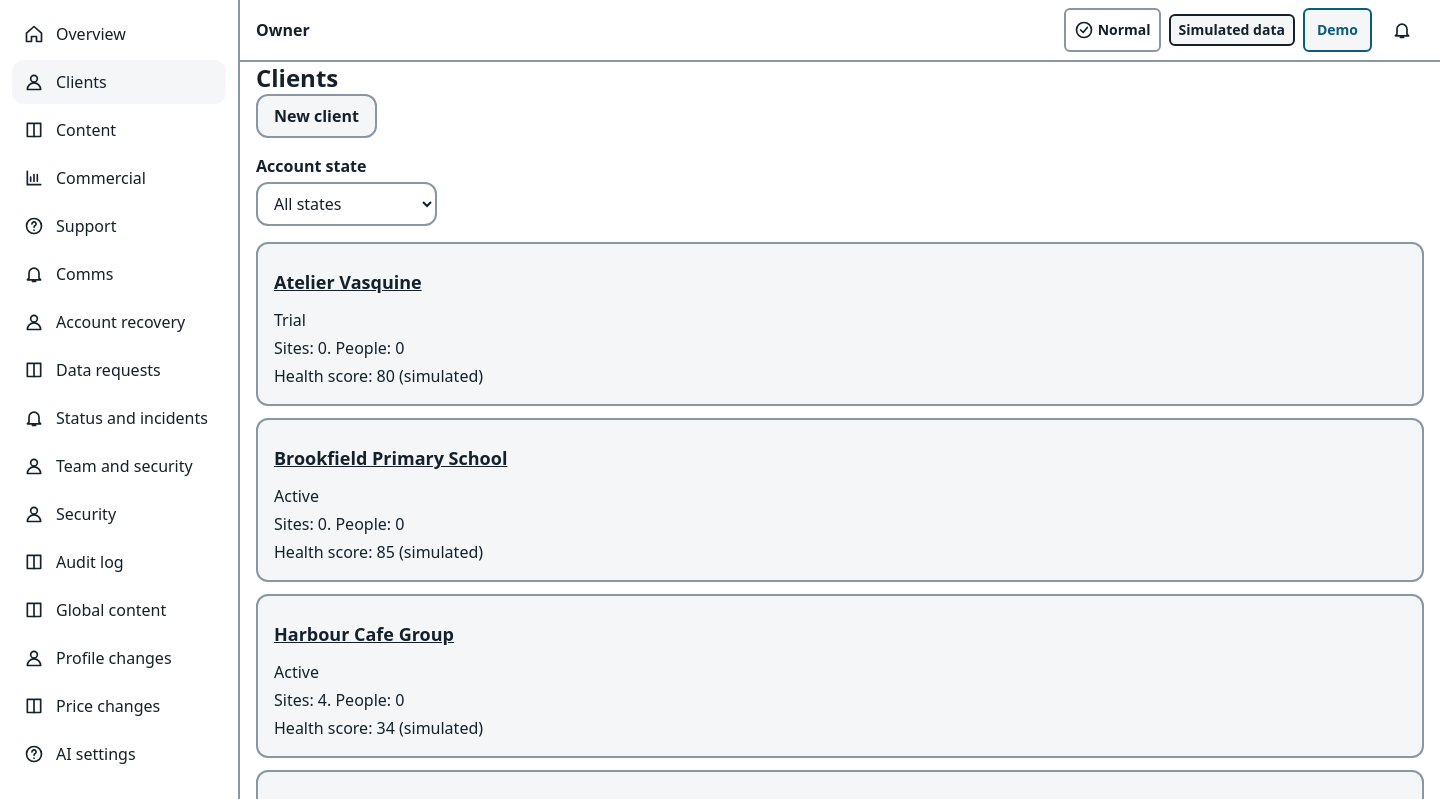
Test: P2 Clients › filters by account state
Select "Trial" in the dropdown labelled "Account state". click: [346, 204]
box: [256,182,437,226]
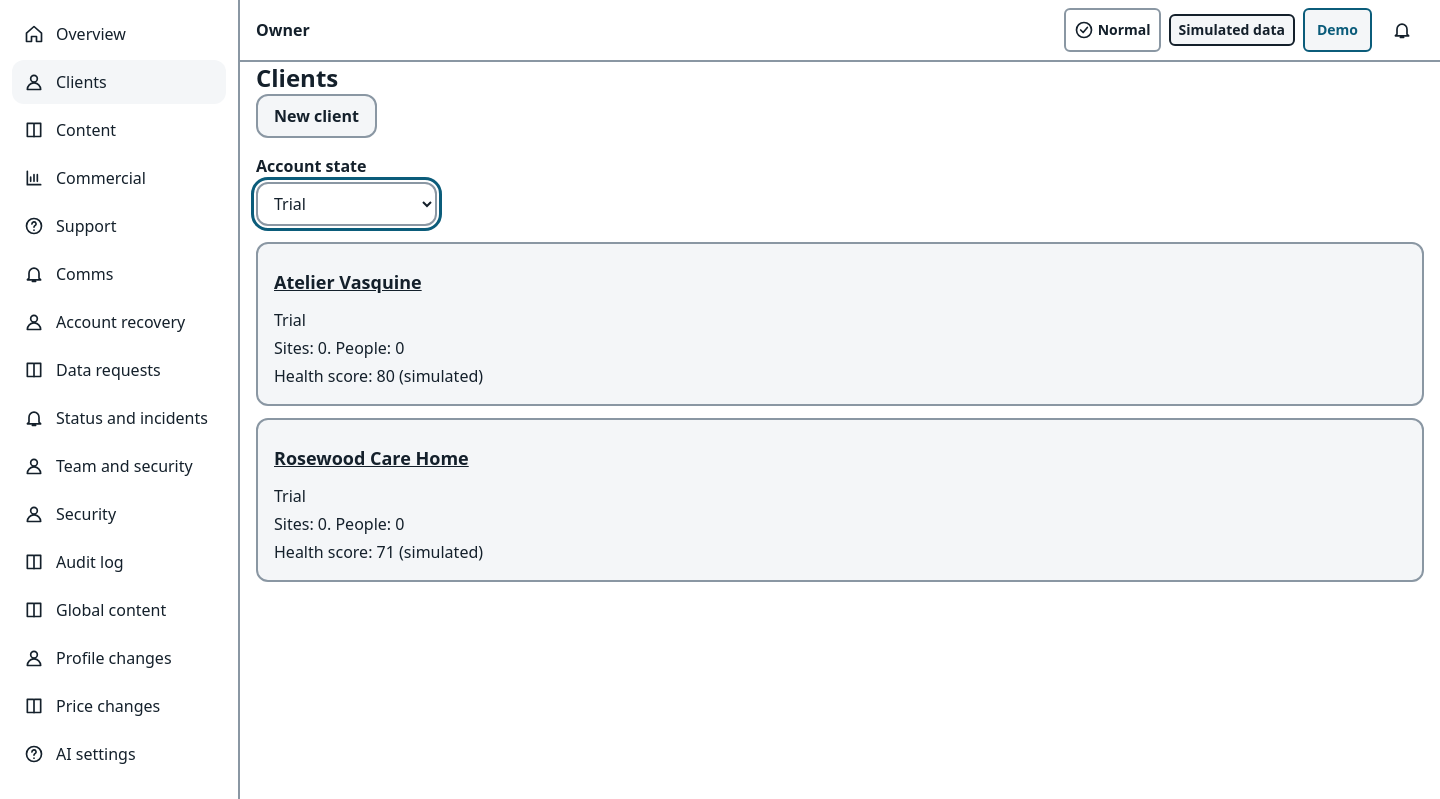
Expected: the number of list items with test id "client-row" is 2, [256,242,1424,406]; [256,418,1424,582]
